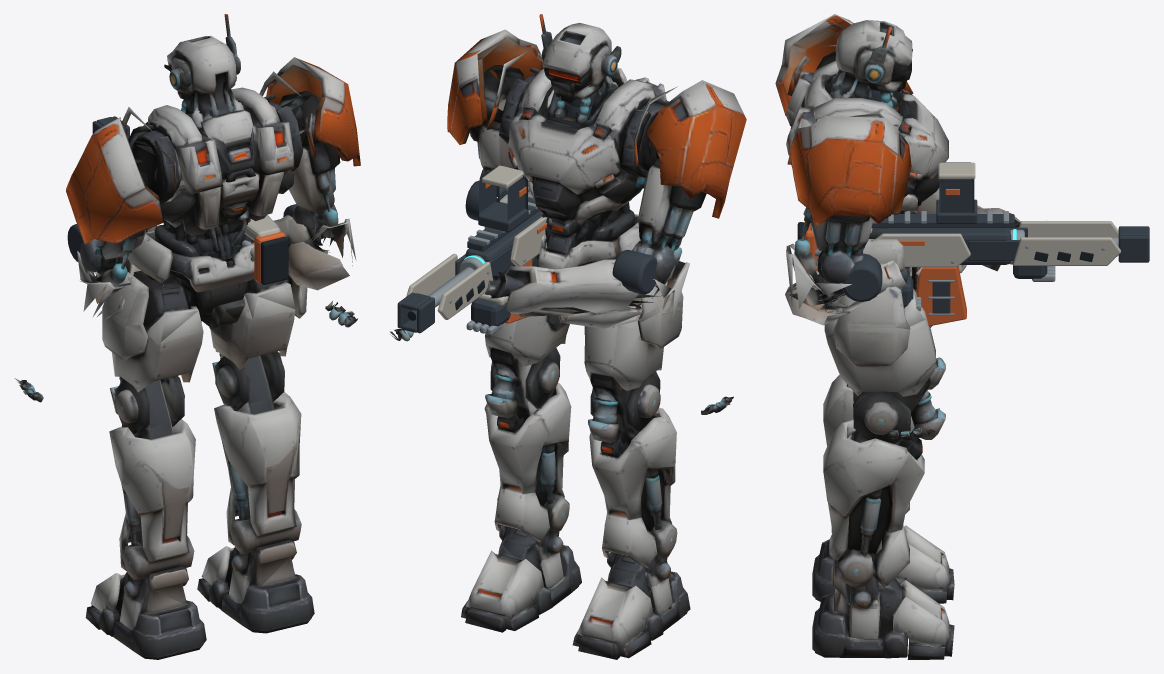
File: rifle-mech.glb
The picture shows the model from 3 angles, left to right: view 1: azimuth 30°, elevation 25°; view 2: azimuth 150°, elevation 25°; view 3: azimuth 270°, elevation 25°; orthographic projection.
Visible parts, largest first — view 1: Torso, Helmet, LeftShinMesh, RightShinMesh, LeftUpperArmMesh, RightUpperArmMesh, LeftThighMesh, RightThighMesh, LeftFootMesh, RightFootMesh, RightForearmMesh, IonRifle_Grip_polymer (+1 smaller); view 2: Torso, LeftUpperArmMesh, Helmet, LeftShinMesh, RightShinMesh, LeftThighMesh, LeftForearmMesh, RightUpperArmMesh, RightFootMesh, LeftFootMesh, RightThighMesh, IonRifle_Lunar_ceramic (+7 smaller); view 3: RightUpperArmMesh, RightShinMesh, RightThighMesh, Helmet, RightFootMesh, Torso, IonRifle_Lunar_ceramic, IonRifle_Graphite_frame, LeftFootMesh, LeftUpperArmMesh, RightForearmMesh, Cell magazine (+7 smaller).
Part boxes in pixels (box(x1,y1,x2,y2)): Torso: box(102, 121, 316, 341); Helmet: box(121, 14, 312, 187); LeftShinMesh: box(109, 417, 195, 604); RightShinMesh: box(214, 392, 301, 585); LeftUpperArmMesh: box(66, 117, 163, 317); RightUpperArmMesh: box(266, 57, 360, 265); LeftThighMesh: box(14, 308, 236, 437); RightThighMesh: box(204, 281, 357, 410); LeftFootMesh: box(85, 572, 206, 659); RightFootMesh: box(197, 546, 314, 633); RightForearmMesh: box(273, 215, 349, 290); IonRifle_Grip_polymer: box(260, 236, 288, 284); Torso: box(487, 74, 683, 321); LeftUpperArmMesh: box(632, 80, 746, 320); Helmet: box(493, 14, 677, 147); LeftShinMesh: box(589, 407, 677, 586); RightShinMesh: box(484, 383, 571, 560); LeftThighMesh: box(584, 297, 733, 443); LeftForearmMesh: box(484, 259, 680, 328); RightUpperArmMesh: box(447, 29, 543, 194); RightFootMesh: box(461, 537, 581, 632); LeftFootMesh: box(572, 561, 690, 659); RightThighMesh: box(390, 315, 569, 418); IonRifle_Lunar_ceramic: box(406, 216, 547, 319); RightUpperArmMesh: box(786, 116, 911, 308); RightShinMesh: box(823, 419, 924, 608); RightThighMesh: box(824, 313, 945, 447); Helmet: box(787, 20, 917, 145); RightFootMesh: box(812, 580, 954, 659); Torso: box(786, 71, 948, 330); IonRifle_Lunar_ceramic: box(810, 221, 1120, 267); IonRifle_Graphite_frame: box(871, 214, 1149, 264); LeftFootMesh: box(812, 525, 954, 603); LeftUpperArmMesh: box(775, 14, 913, 115); RightForearmMesh: box(785, 260, 922, 325); Cell magazine: box(916, 266, 966, 326).
Bounding box in the file's own units: 1.13 × 1.95 × 1.09.
Materials: 10 (1 with a texture image).
